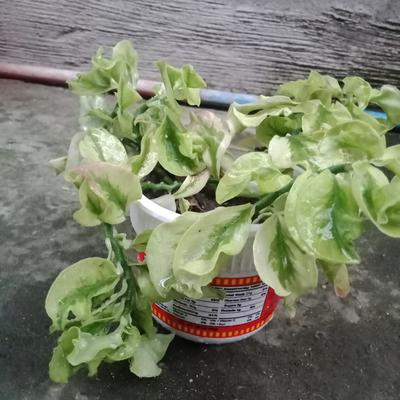Pothos plant: (64, 48, 391, 339)
